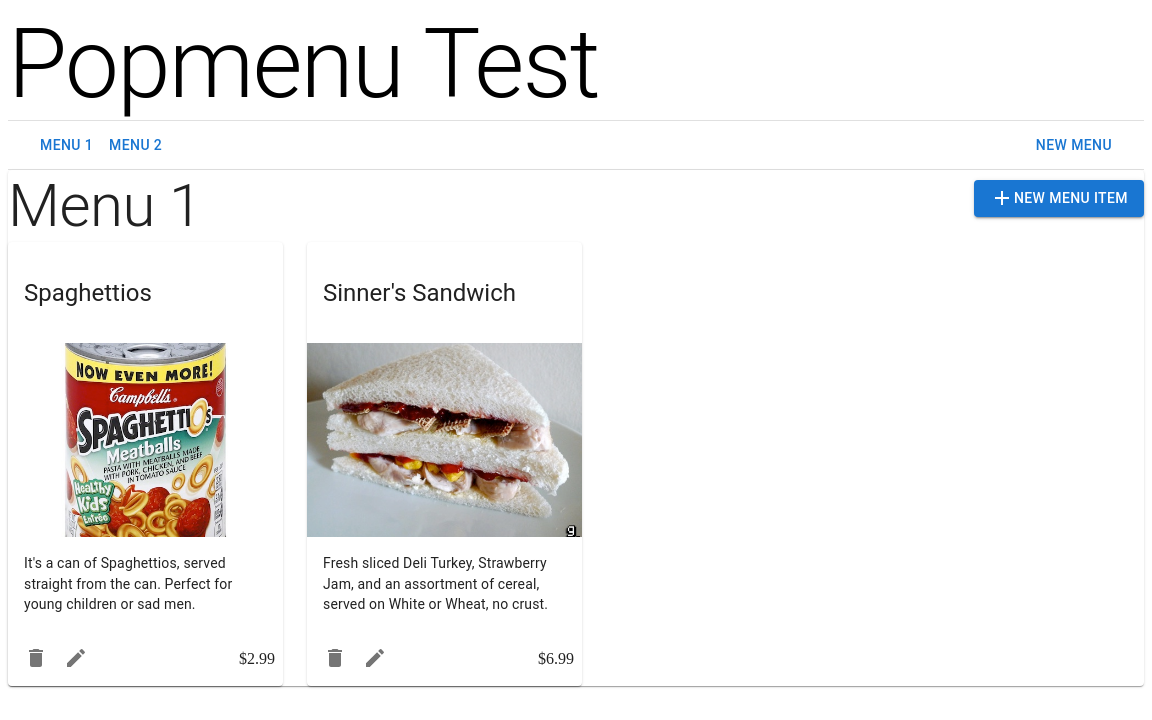
Delete a Menu Item
The image size is (1152, 720).
Click the button with id "delete-1": coordinates (36, 658) [16,638,56,678]
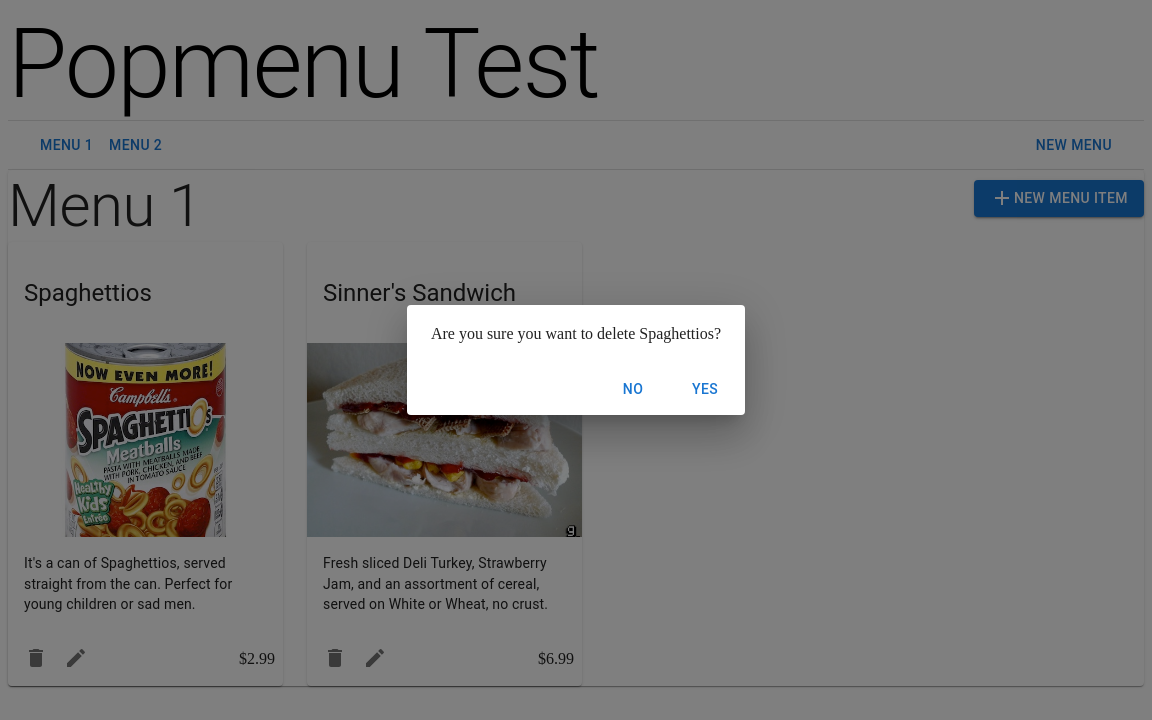
Click the button with id "confirm-delete-1": coordinates (705, 389) [673,371,737,407]
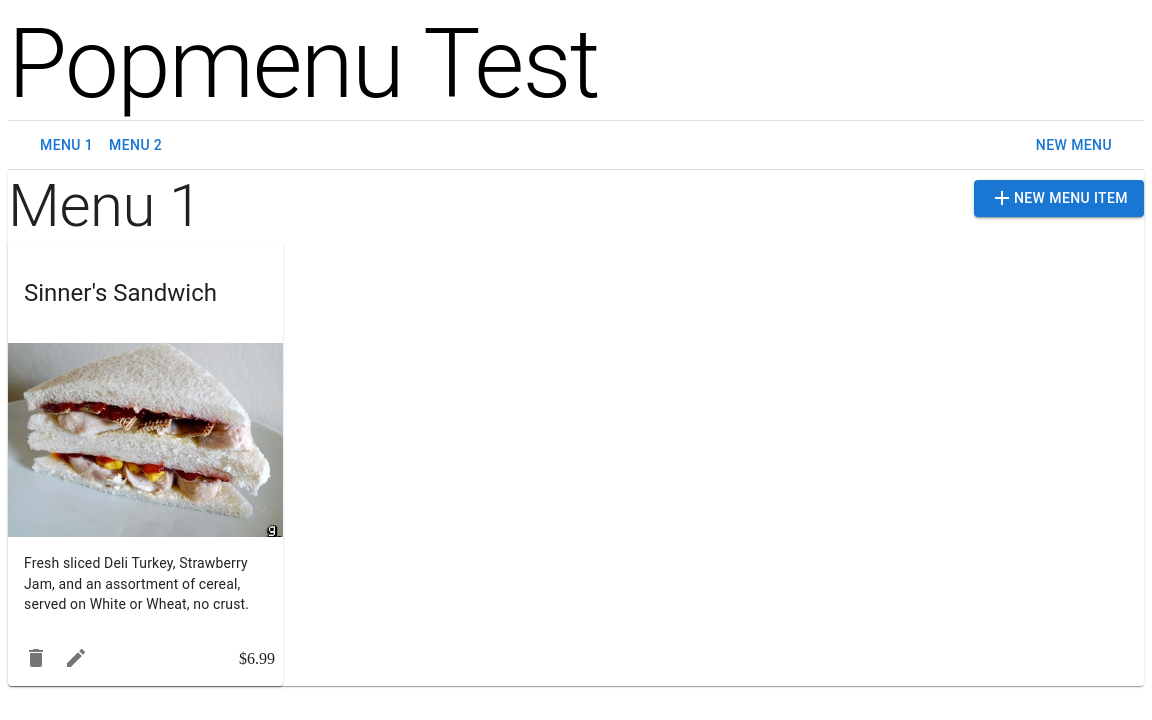
Check: the element with id "menu-item-card-1" is gone
